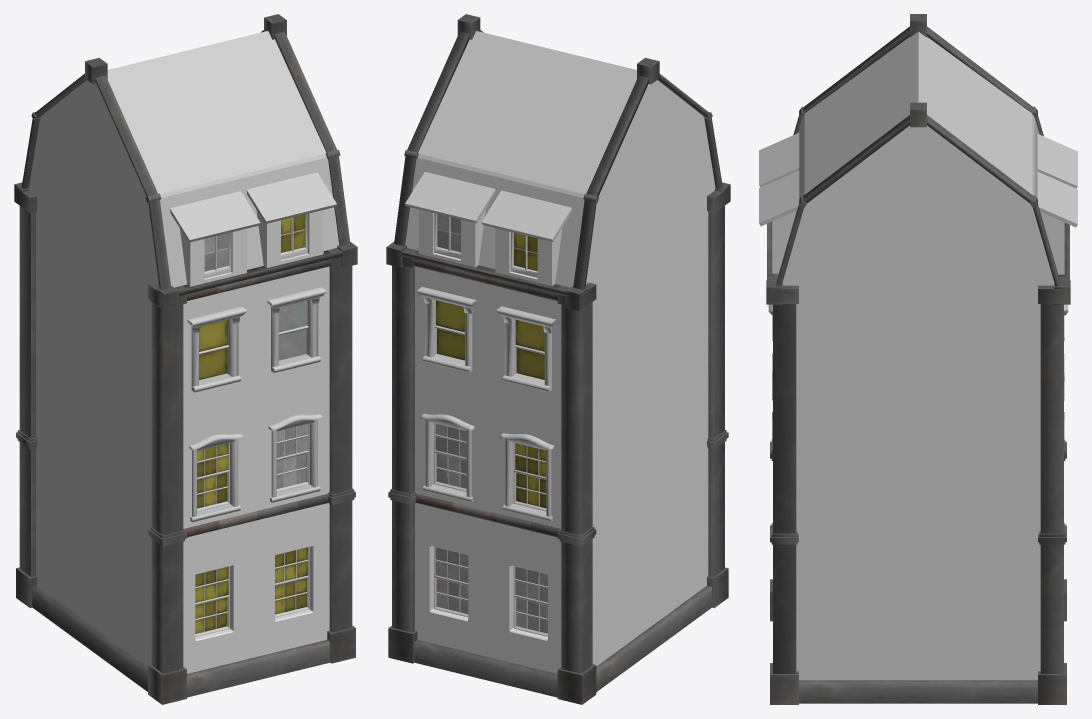
File: Building_15.fbx
The picture shows the model from 3 angles, left to right: view 1: azimuth 30°, elevation 25°; view 2: azimuth 150°, elevation 25°; view 3: azimuth 270°, elevation 25°; orthographic projection.
Visible parts, largest first — view 1: Wall_01.013, Wall_03.015, Roof_Trim_02.004, Wall_02.012, Roof_Trim_02.003; view 2: Wall_02.012, Wall_03.015, Roof_Trim_02.003, Wall_01.013, Roof_Trim_02.004; view 3: Wall_04.010, Roof_Trim_02.004, Roof_Trim_02.003, Wall_02.012, Wall_01.013.
Part boxes in pixels (bbox=[...]): Wall_01.013: bbox=[148, 248, 355, 704]; Wall_03.015: bbox=[29, 80, 158, 691]; Roof_Trim_02.004: bbox=[85, 14, 357, 311]; Wall_02.012: bbox=[16, 187, 37, 607]; Roof_Trim_02.003: bbox=[14, 30, 263, 207]; Wall_02.012: bbox=[388, 248, 596, 704]; Wall_03.015: bbox=[586, 80, 715, 691]; Roof_Trim_02.003: bbox=[386, 31, 648, 311]; Wall_01.013: bbox=[707, 188, 728, 608]; Roof_Trim_02.004: bbox=[457, 14, 730, 207]; Wall_04.010: bbox=[782, 125, 1054, 703]; Roof_Trim_02.004: bbox=[759, 14, 926, 304]; Roof_Trim_02.003: bbox=[918, 26, 1077, 304]; Wall_02.012: bbox=[1038, 277, 1068, 704]; Wall_01.013: bbox=[768, 277, 798, 704].
Size of what is drawn, in the model's own units: 4.87 by 14.09 by 6.84.
